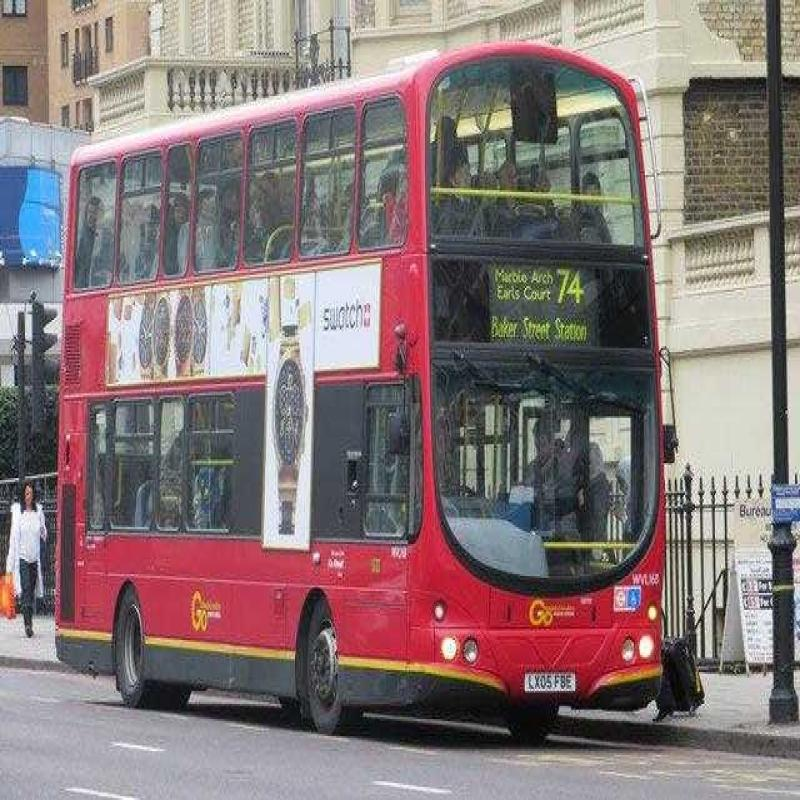bus: (45, 60, 670, 740)
